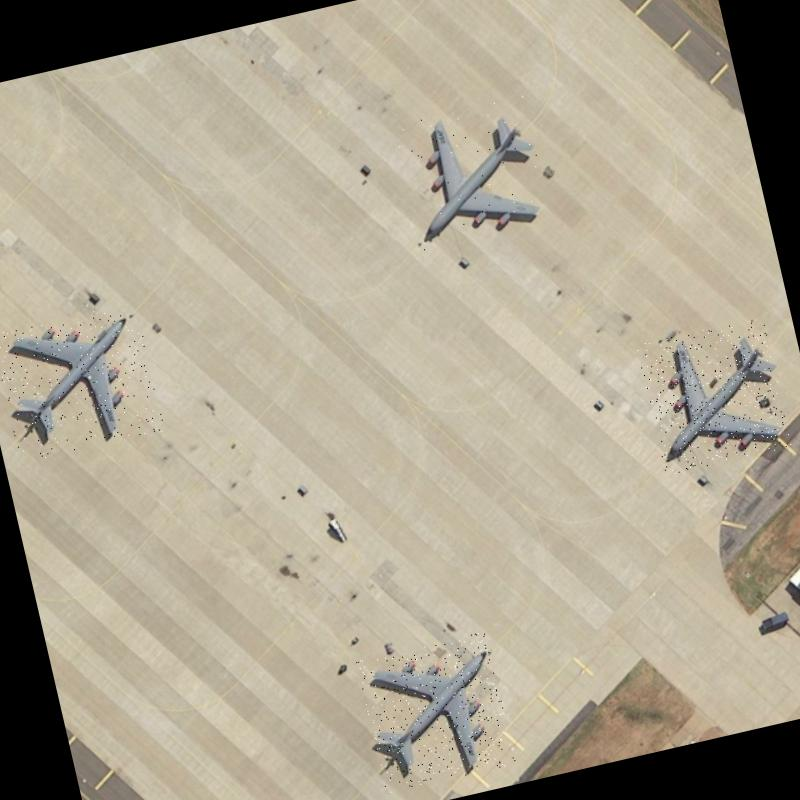A14: (0, 301, 165, 464), (354, 630, 515, 794), (391, 95, 554, 252), (636, 315, 792, 475)
